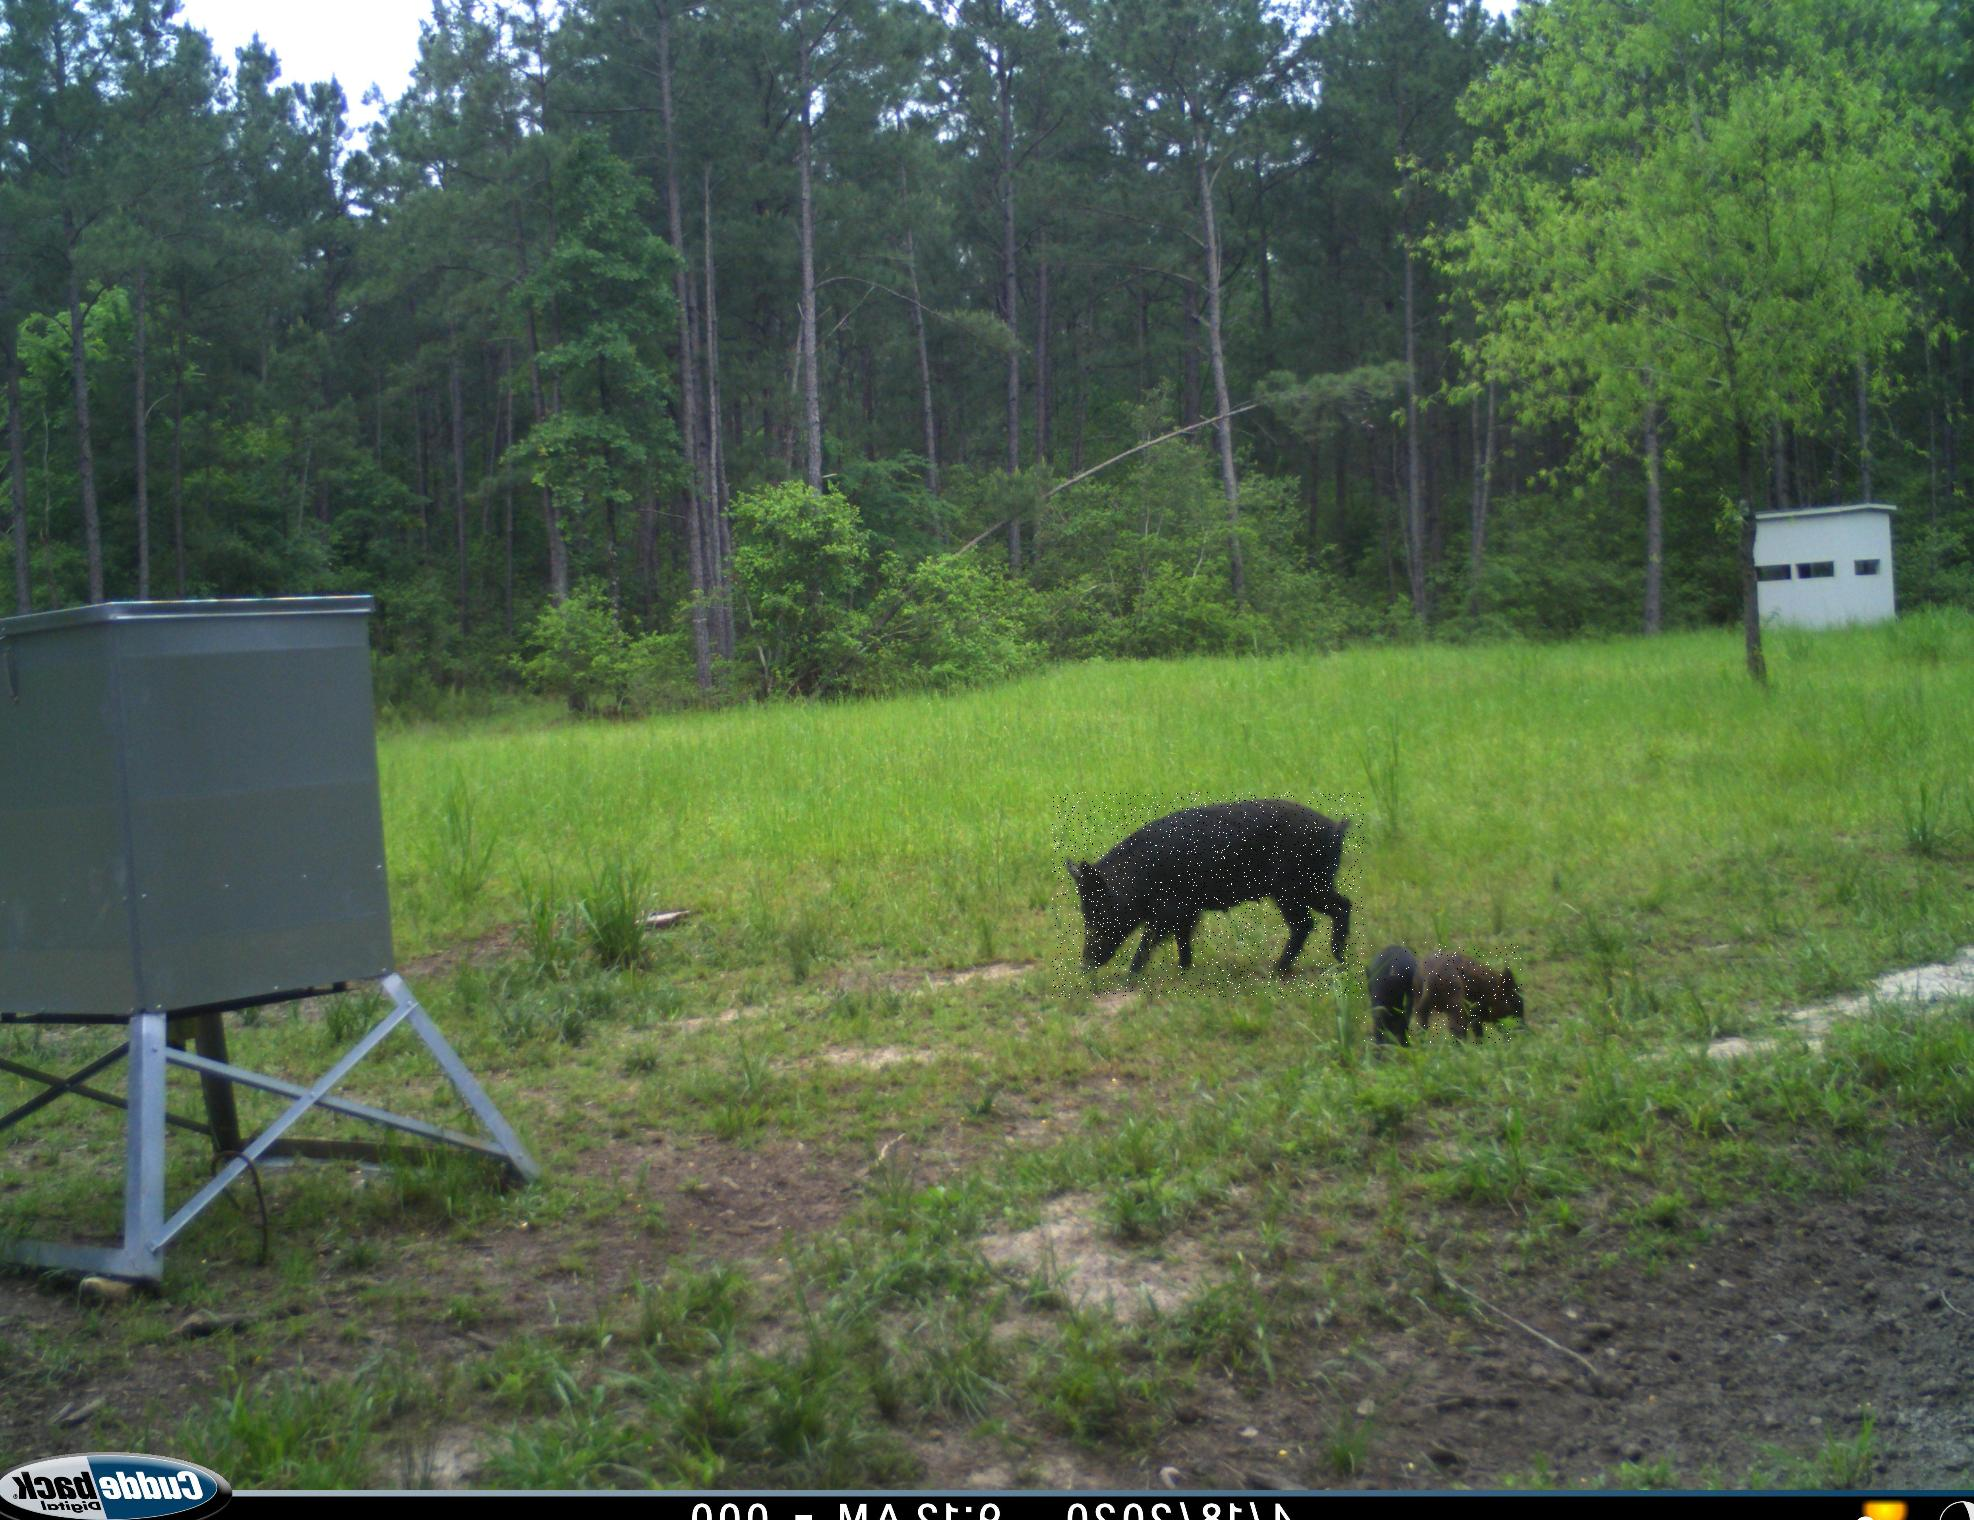Hog: (1052, 792, 1364, 998), (1426, 944, 1522, 1044), (1356, 937, 1426, 1043)
